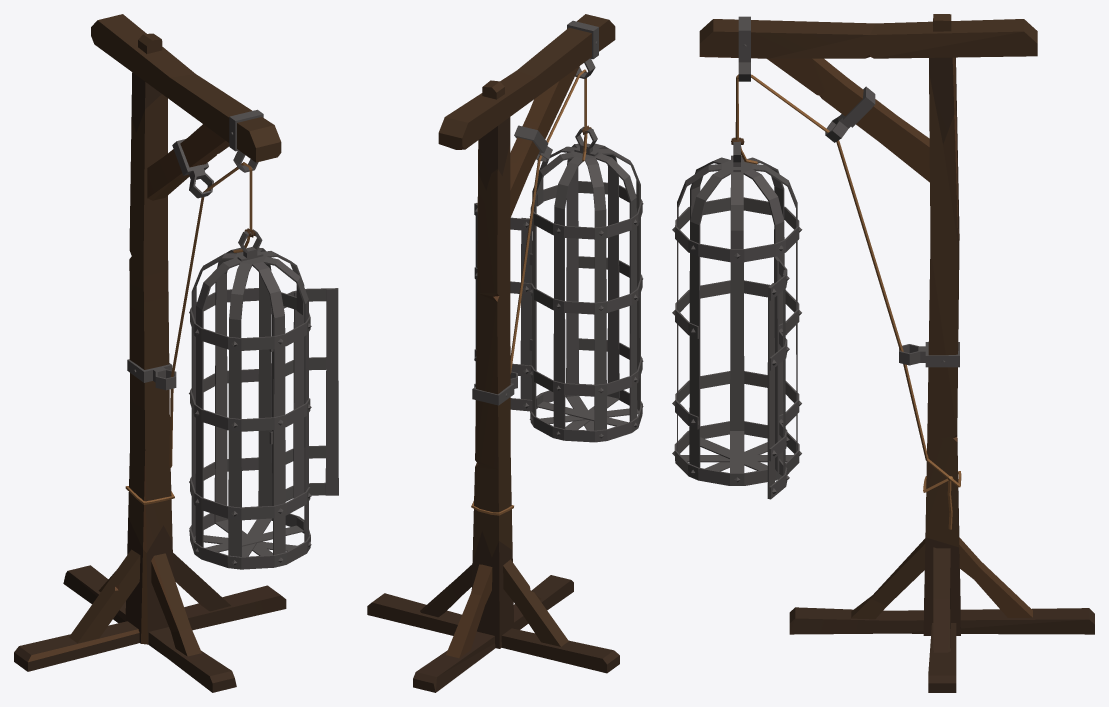
File: Gibbet.fbx
The picture shows the model from 3 angles, left to right: view 1: azimuth 30°, elevation 25°; view 2: azimuth 150°, elevation 25°; view 3: azimuth 270°, elevation 25°; orthographic projection. The views are drawn at different scales.
Parts seen in each view (by area): view 1: gibbet_base, gibbet_gate; view 2: gibbet_base, gibbet_gate; view 3: gibbet_base, gibbet_gate.
Boxes of the visible parts, x1,y1,x2,y2 form: gibbet_base: (14, 14, 311, 692); gibbet_gate: (271, 288, 338, 505); gibbet_base: (367, 14, 643, 692); gibbet_gate: (474, 203, 532, 411); gibbet_base: (672, 14, 1094, 692); gibbet_gate: (767, 256, 789, 499).
Size of the model in its own units: 8912 by 19739 by 12341.
